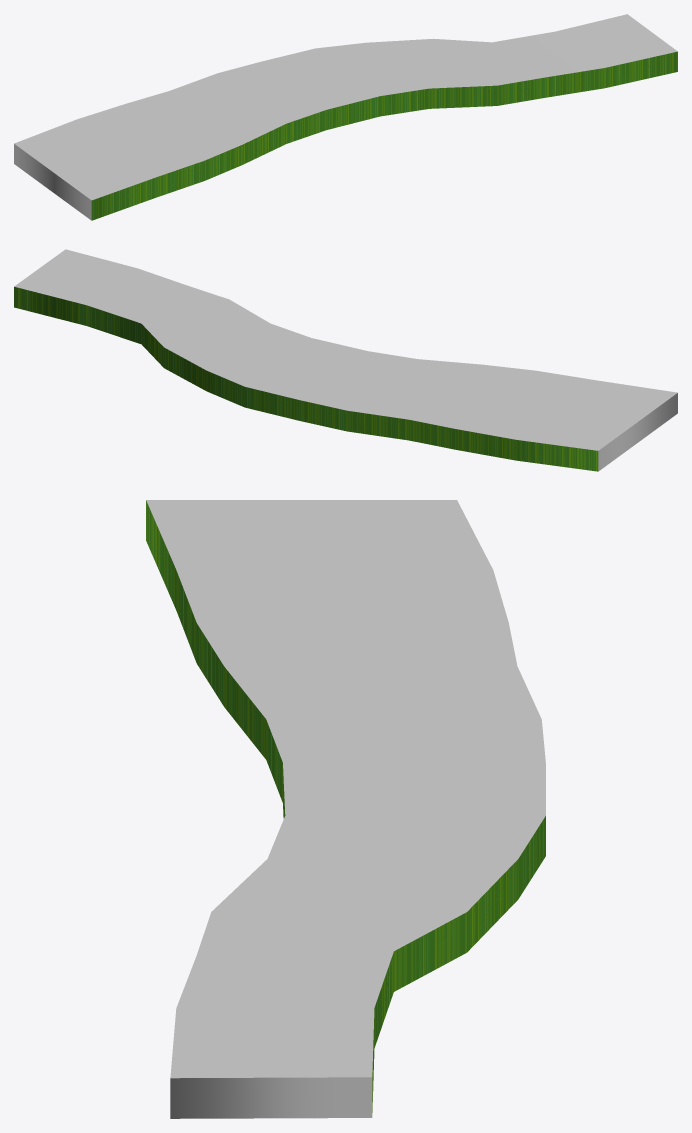
Rendered from Water Test.fbx.
3 views of the same model, one above another, from view 1: azimuth 30°, elevation 25°; view 2: azimuth 150°, elevation 25°; view 3: azimuth 270°, elevation 25° (orthographic). The views are drawn at different scales.
Visible parts, largest first — view 1: Level 1.001; view 2: Level 1.001; view 3: Level 1.001.
Boxes of the visible parts, x1,y1,x2,y2 form: Level 1.001: (14,14,677,220); Level 1.001: (14,249,677,471); Level 1.001: (146,500,545,1118).
Bounding box in the file's own units: 2000 × 67.08 × 584.
